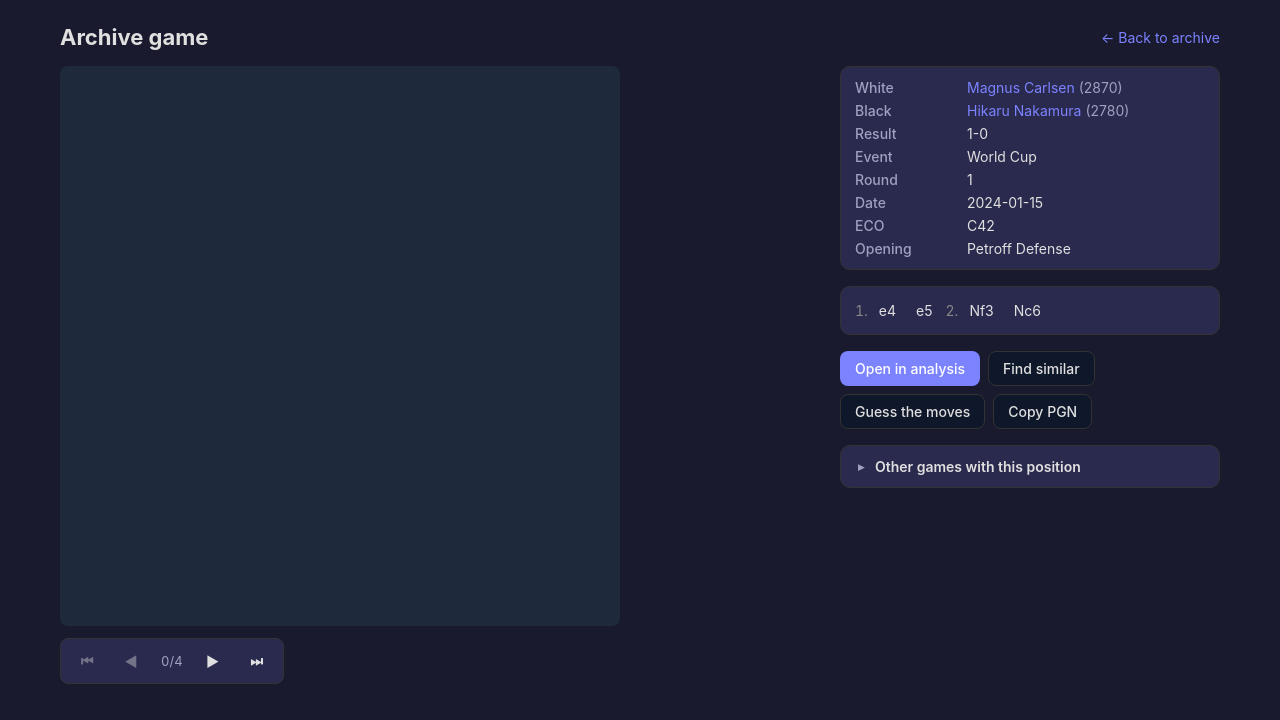
Test: ArchiveGamePage — навигация по ходам › клик «next» меняет ply и FEN доски
Check: the text with test id "archive-game-page-counter" reads "0/4", box [161,653,183,669]
What coordinates should you click on to do the following:
click the button with test id "archive-game-page-next"
I would click on:
 (213, 661)
Its box is [195,646,231,676].
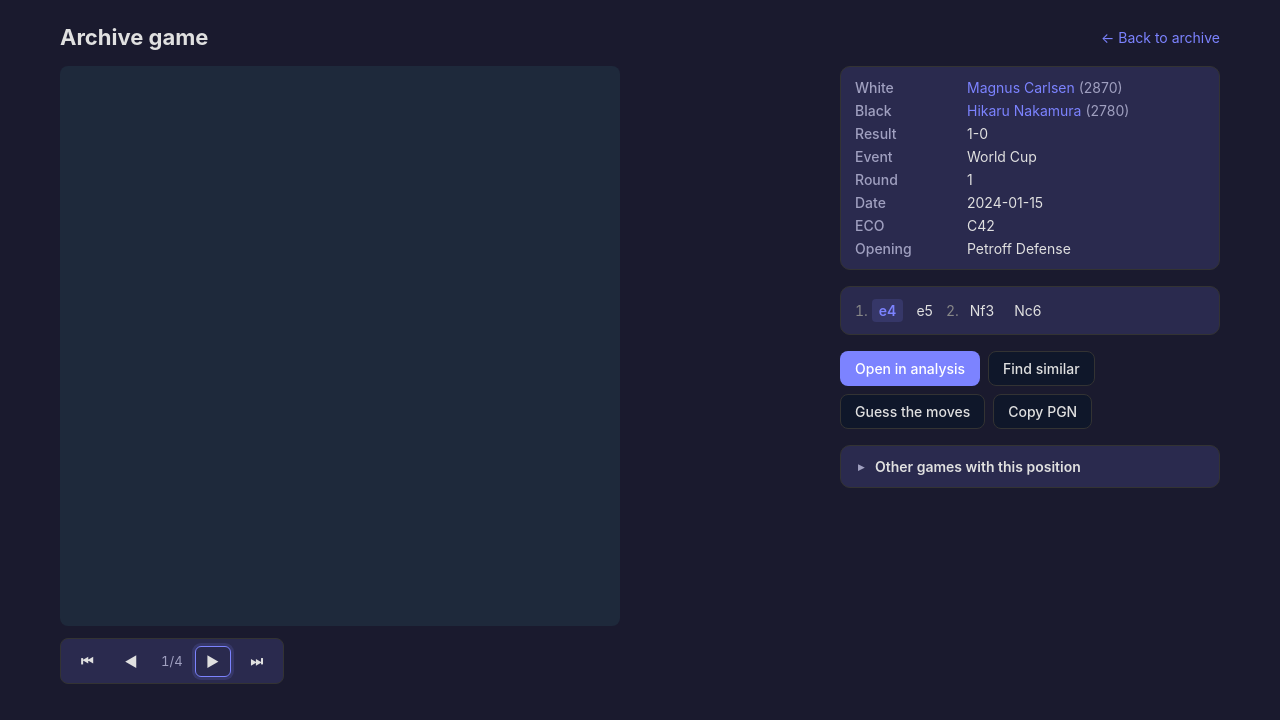
Check: the text with test id "archive-game-page-counter" reads "1/4", box [161,653,183,669]
